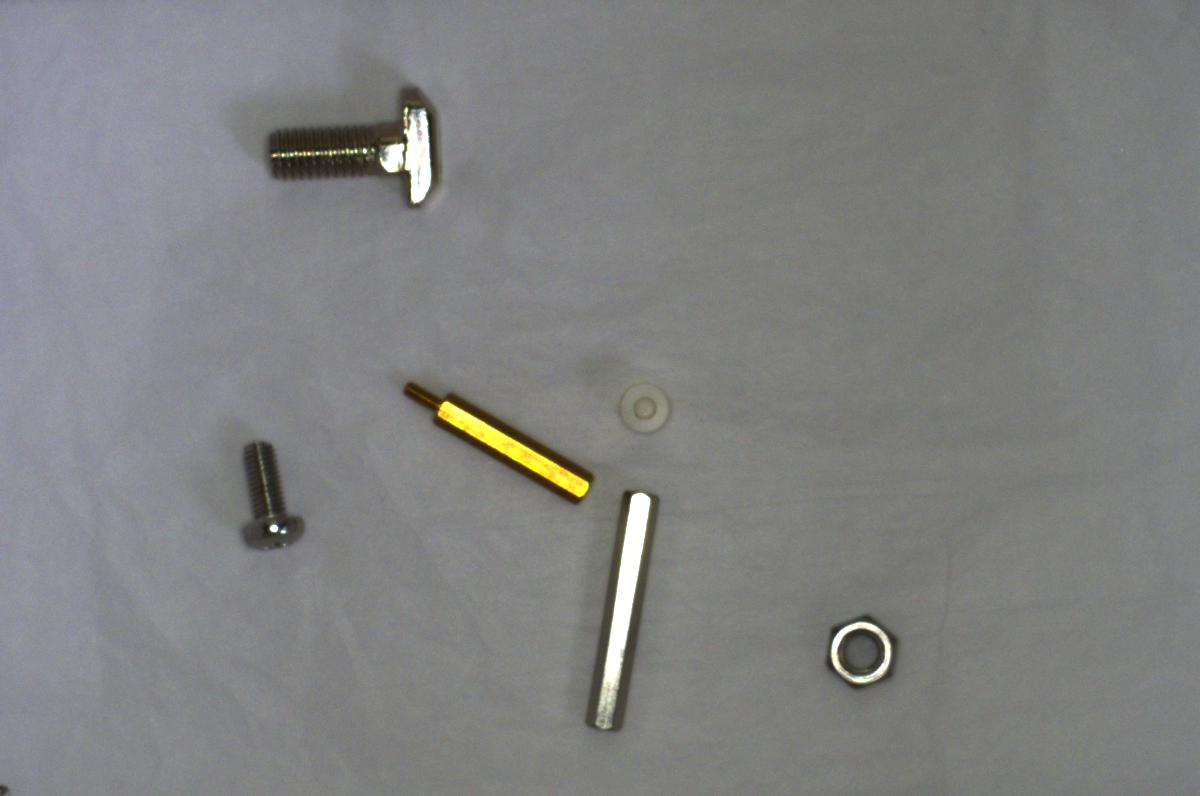Double hexagonal column: (571, 475, 654, 739)
Hexagon nut: (807, 601, 905, 696)
Hexagon pillar: (395, 375, 598, 501)
Plastic cushion pillar: (614, 370, 670, 438)
Round head screw: (220, 427, 313, 562)
T-shaped screw: (254, 74, 452, 210)
